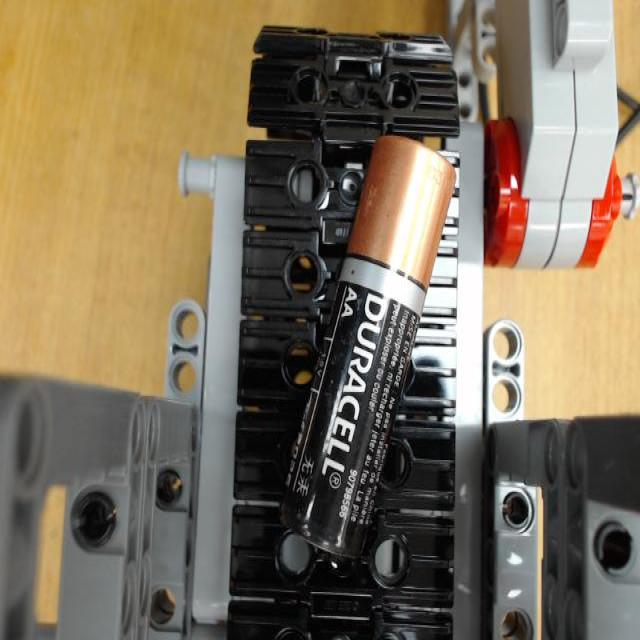AA: (275, 132, 455, 560)
